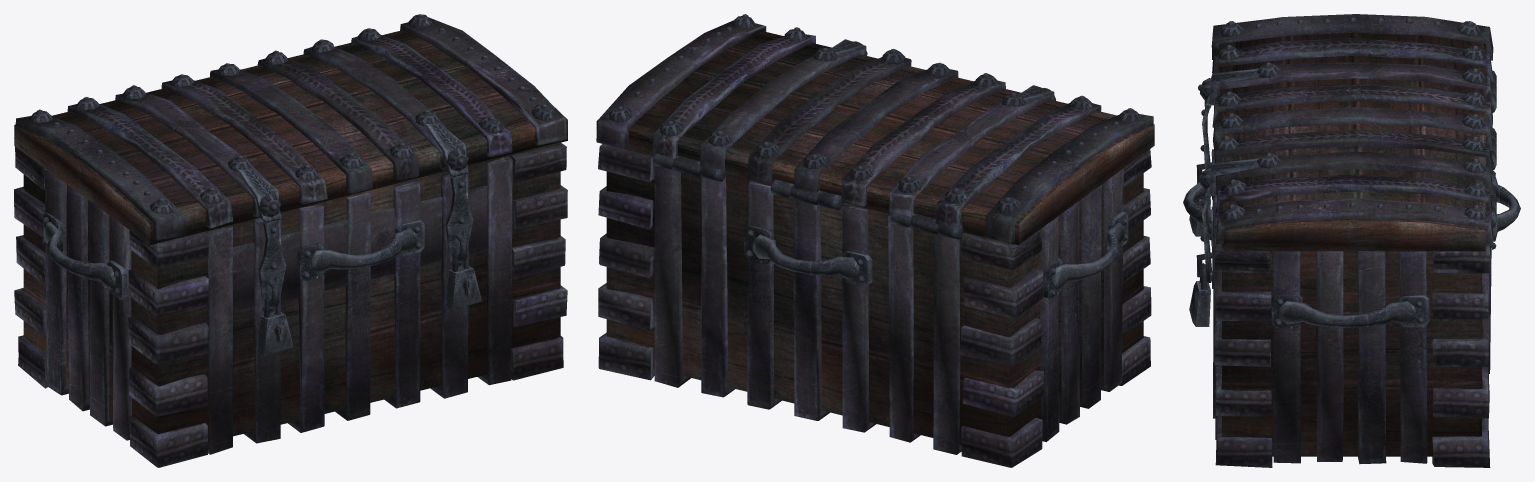
The model's file is Big_Chest.FBX.
The picture shows the model from 3 angles, left to right: view 1: azimuth 30°, elevation 25°; view 2: azimuth 150°, elevation 25°; view 3: azimuth 270°, elevation 25°; orthographic projection. The views are drawn at different scales.
Visible parts, largest first — view 1: big_chest, big_chest_cover; view 2: big_chest, big_chest_cover; view 3: big_chest_cover, big_chest.
Boxes of the visible parts, bbox=[...] form: big_chest: bbox=[14, 142, 567, 467]; big_chest_cover: bbox=[14, 14, 567, 308]; big_chest: bbox=[598, 144, 1151, 467]; big_chest_cover: bbox=[596, 14, 1154, 245]; big_chest_cover: bbox=[1198, 14, 1493, 282]; big_chest: bbox=[1183, 70, 1520, 467].
Size of the model in its own units: 96.27 by 52.37 by 61.07.
